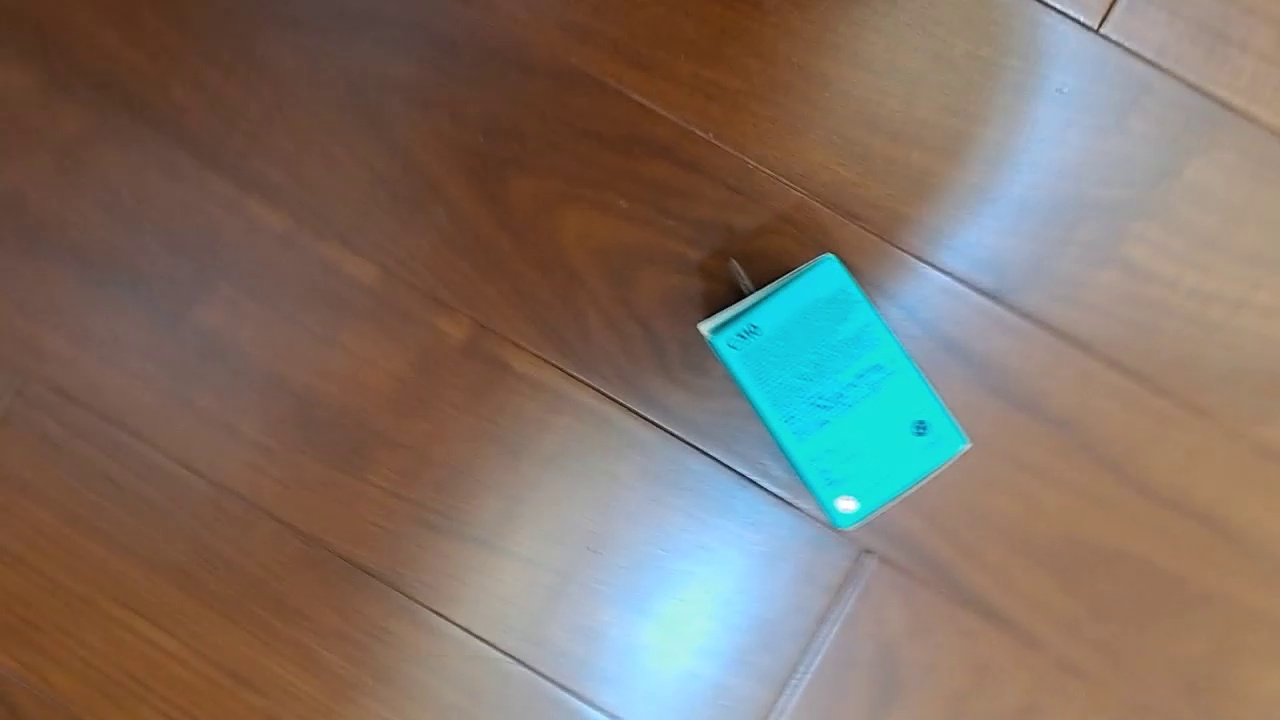webcam: (694, 250, 972, 533)
